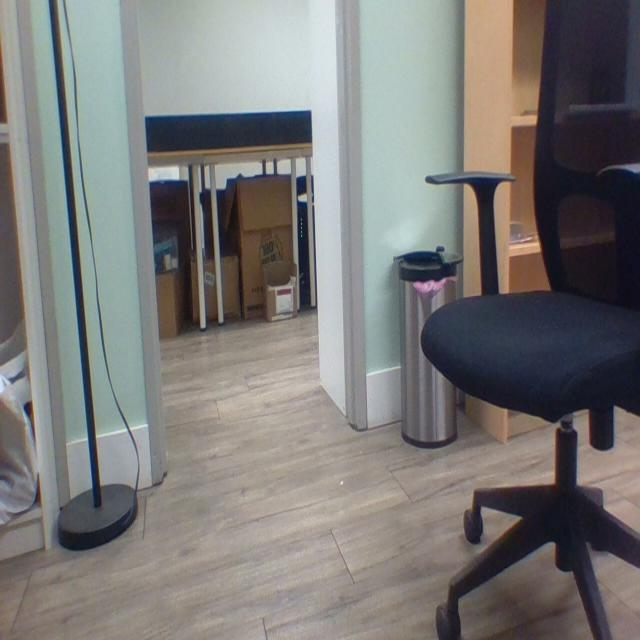chair: (422, 1, 640, 640)
